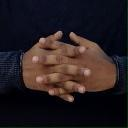hand: (32, 32, 117, 96), (21, 31, 90, 103)
